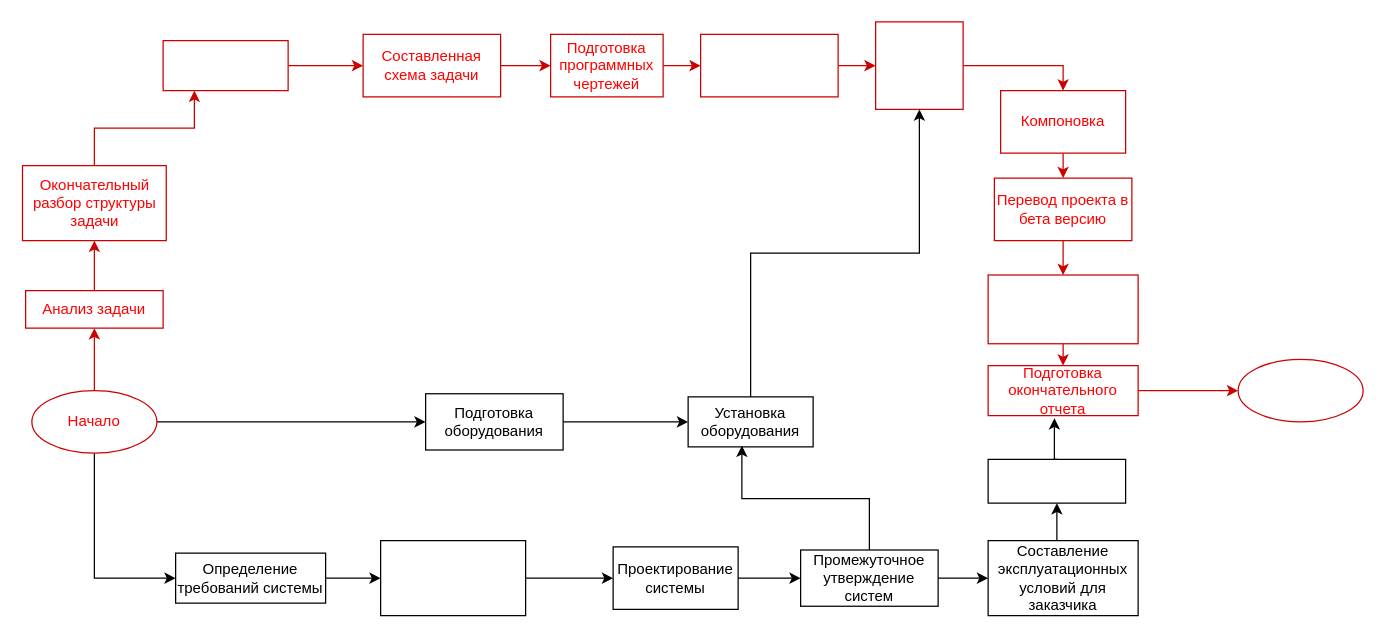
Image size: 1385x638. Some labels were removed from this diagram. Here are the shapes that lost their labels. From the top down, the box of each, then its label:
(162, 39, 288, 91): Анализ структуры задачи
(699, 33, 838, 97): Утверждение чертежей
(874, 21, 963, 109): Создание прототипной версии
(987, 274, 1138, 344): Тщательное тестирование
(1237, 358, 1363, 422): Конец
(987, 458, 1126, 503): Передача проекта заказчику
(379, 539, 526, 616): Утверждение требований системы для разработки
